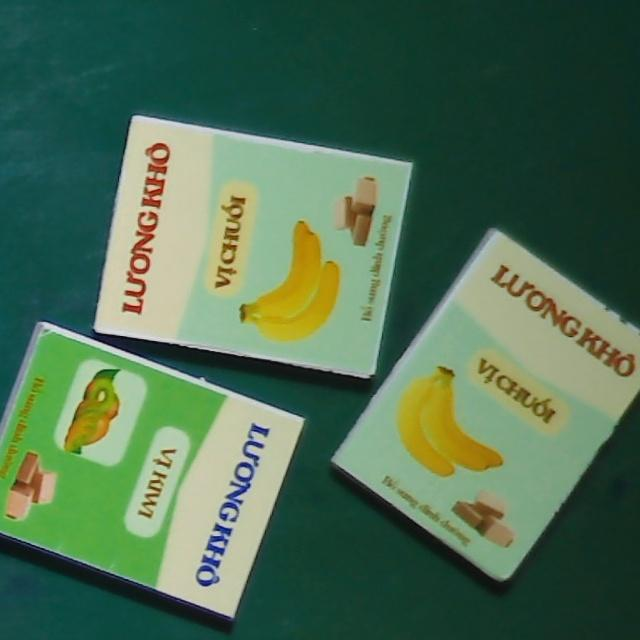chuoi: (92, 114, 411, 380)
kiwi: (0, 319, 307, 623)
